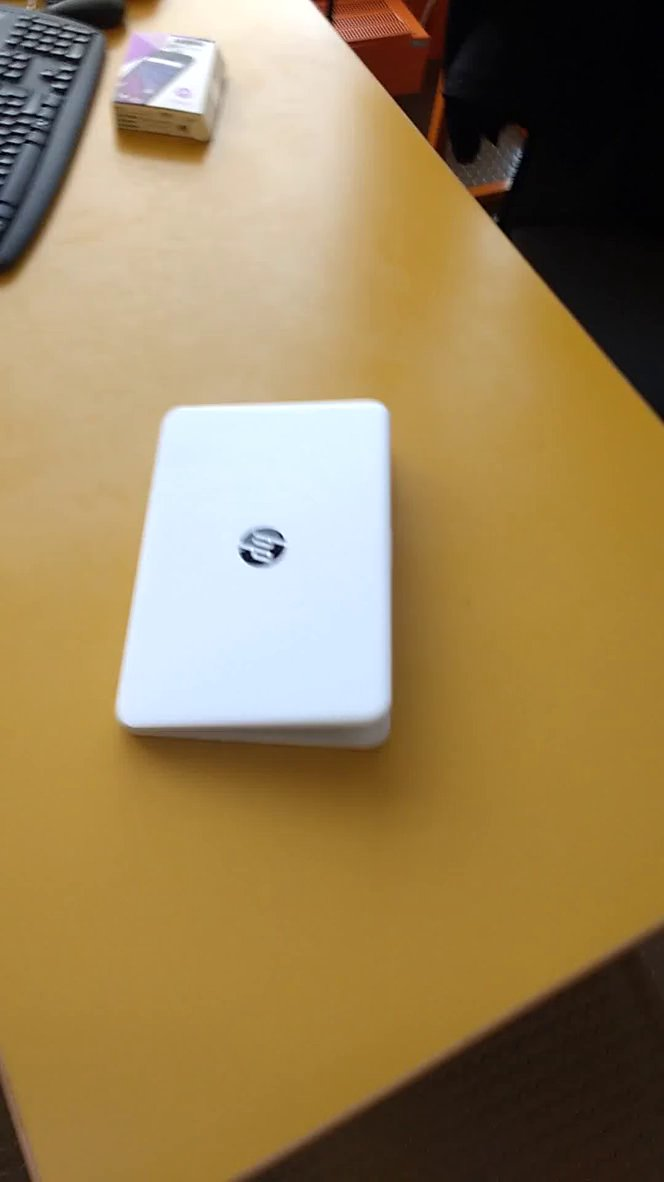laptop: (94, 381, 431, 767)
